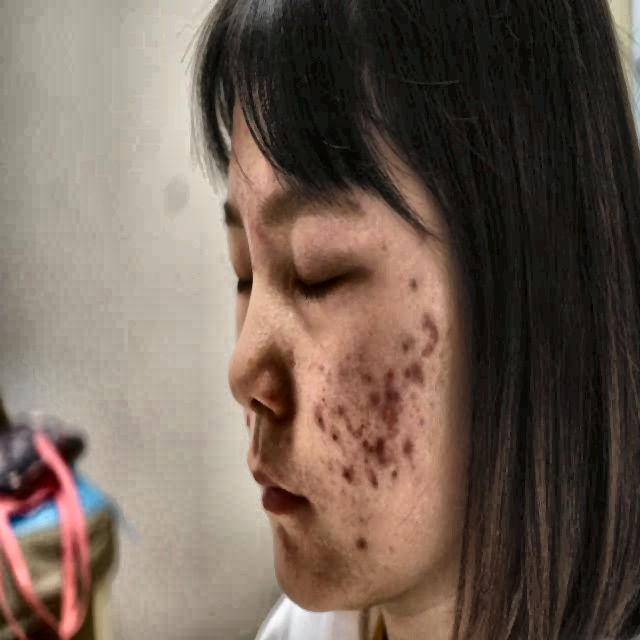papule: (402, 353, 428, 387), (378, 359, 402, 394), (421, 314, 448, 343), (385, 451, 404, 483), (419, 338, 438, 369), (311, 408, 331, 436), (397, 423, 416, 451), (383, 404, 399, 434), (373, 431, 391, 456), (326, 423, 341, 451), (283, 345, 298, 373), (341, 456, 354, 488), (366, 472, 384, 495), (238, 116, 256, 139), (360, 529, 374, 558), (382, 386, 402, 406), (360, 384, 378, 405), (396, 335, 411, 358), (357, 429, 369, 454), (333, 394, 346, 415), (412, 309, 429, 325)
